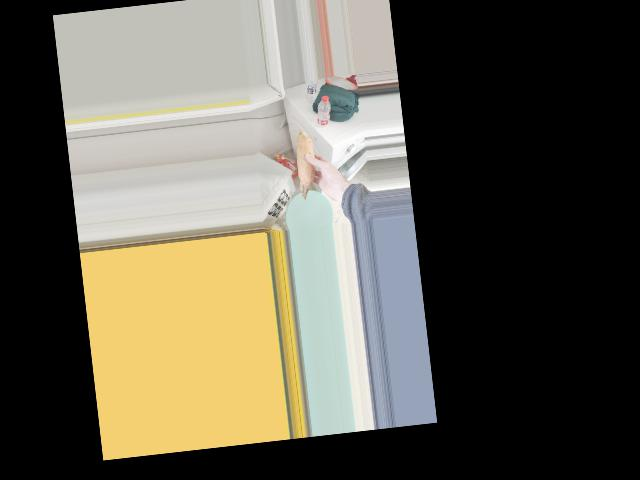sweet_potato: (292, 134, 321, 196)
